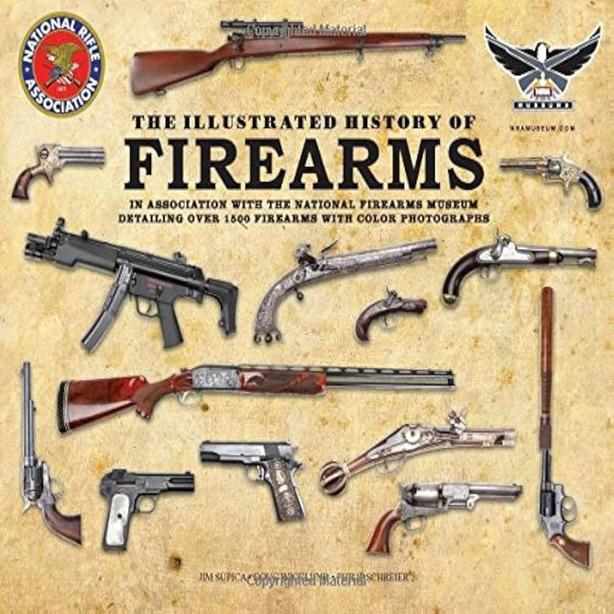Firearm: (45, 349, 465, 432), (9, 211, 247, 355), (121, 6, 477, 101), (520, 278, 609, 574), (252, 218, 437, 354), (321, 414, 526, 498), (6, 363, 90, 549), (369, 479, 526, 562), (442, 232, 606, 309), (197, 435, 313, 533), (94, 462, 199, 561), (494, 146, 606, 220), (10, 136, 115, 204)
